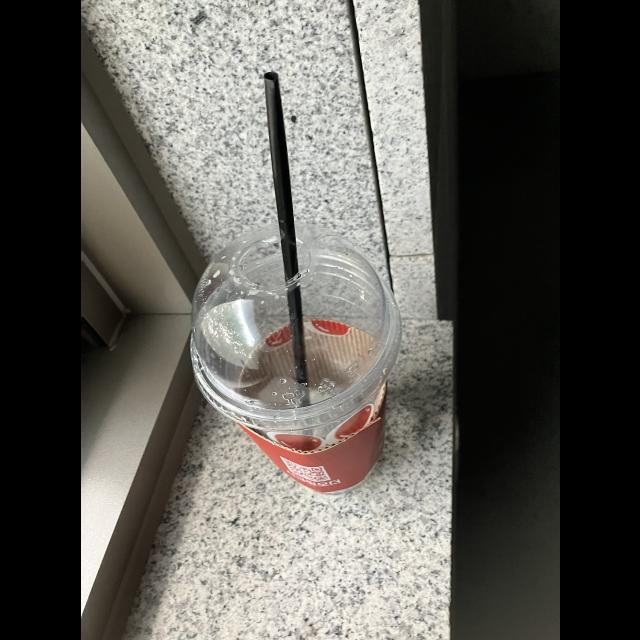plastic_cup: (185, 231, 403, 493)
plastic_cup_lid: (186, 228, 404, 430)
straw: (252, 73, 320, 411)
